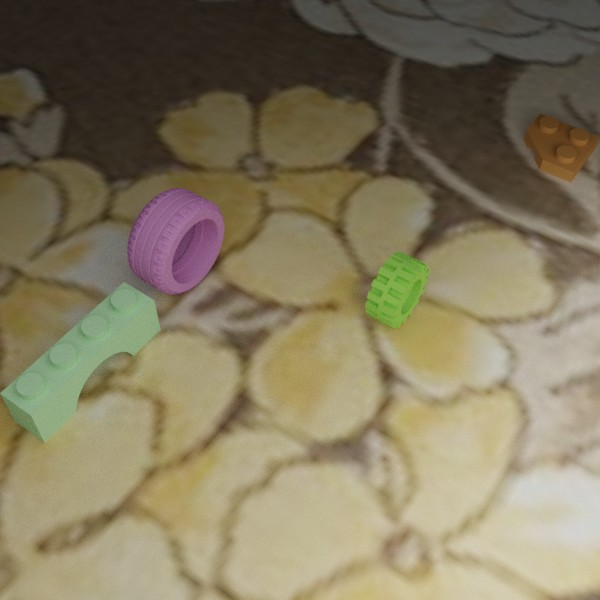lego: (0, 282, 160, 442), (127, 187, 224, 294), (523, 113, 600, 182), (365, 251, 429, 328)
